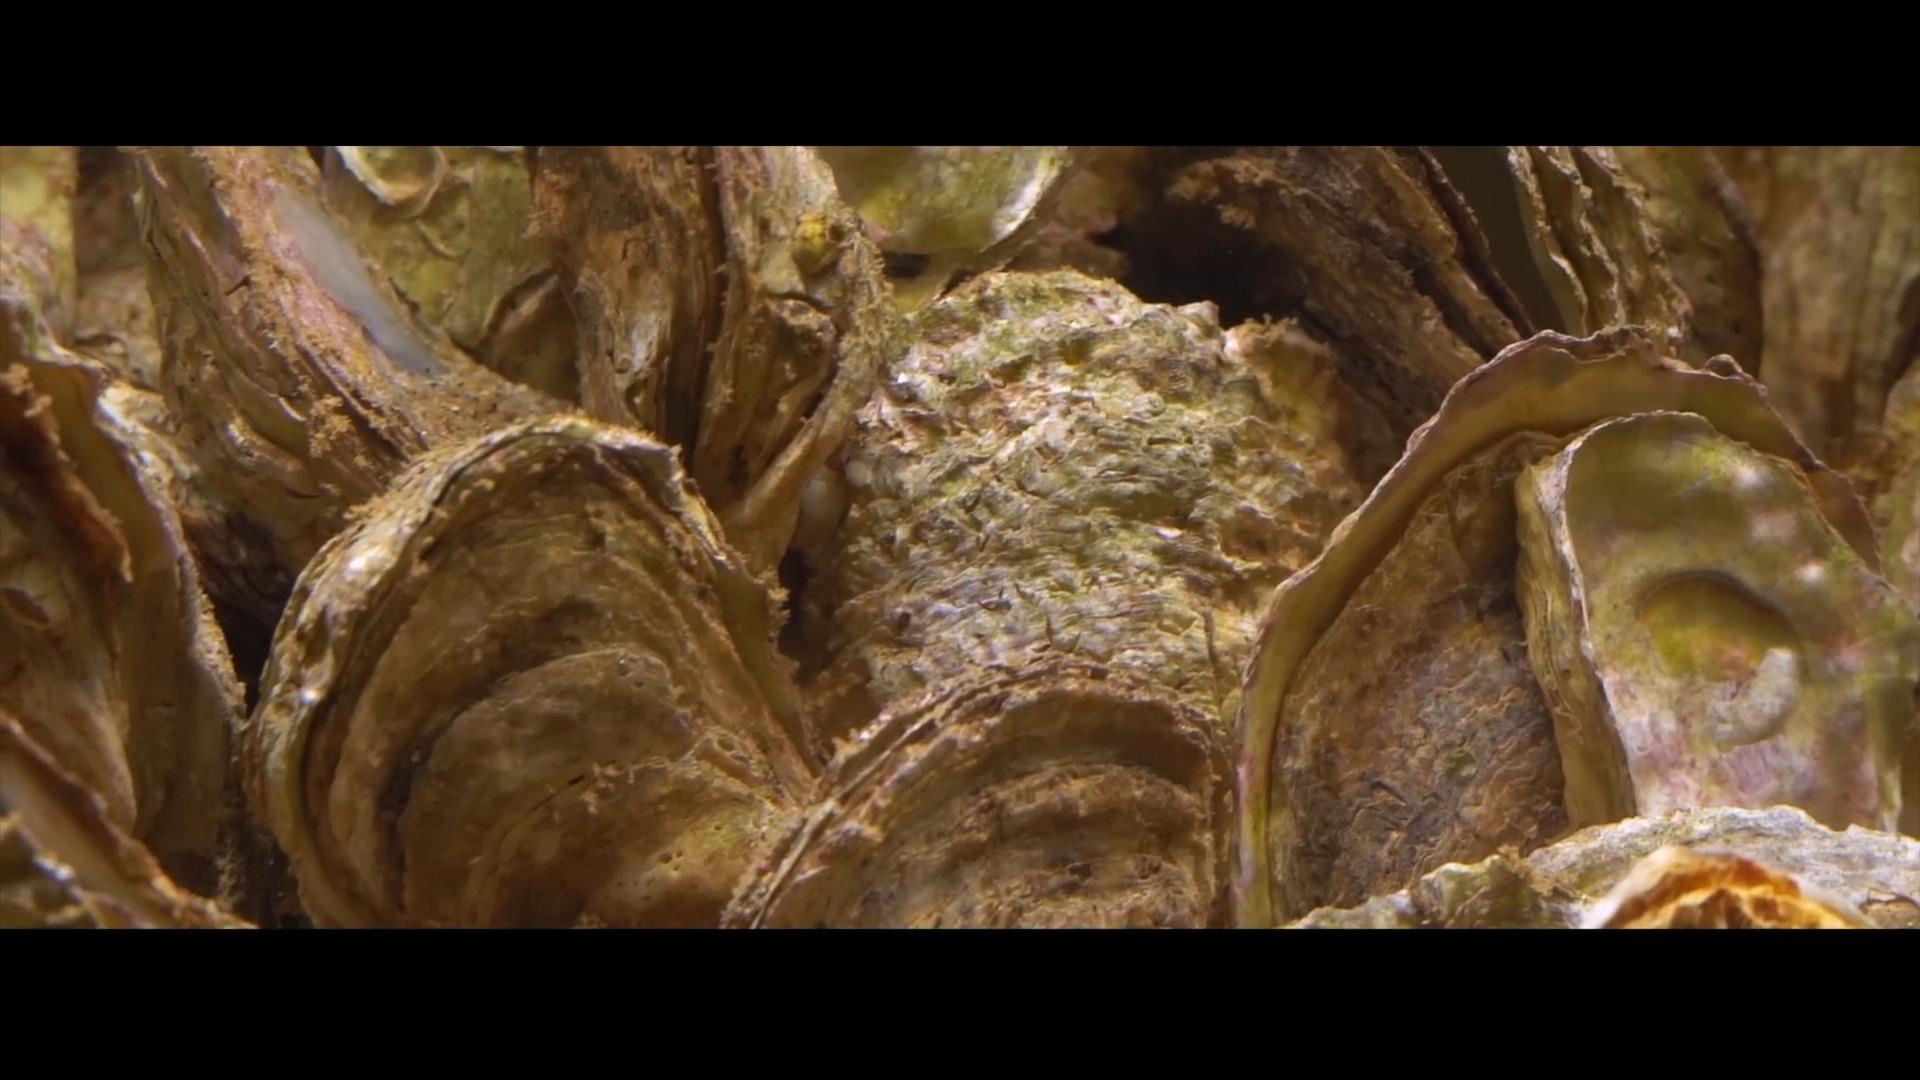Oyster: (1269, 347, 1896, 915), (236, 394, 806, 926), (121, 145, 882, 534), (847, 272, 1313, 709), (1515, 407, 1887, 818), (1147, 150, 1701, 376), (749, 671, 1208, 942), (0, 344, 166, 895), (1755, 154, 1920, 455), (0, 803, 252, 928)
